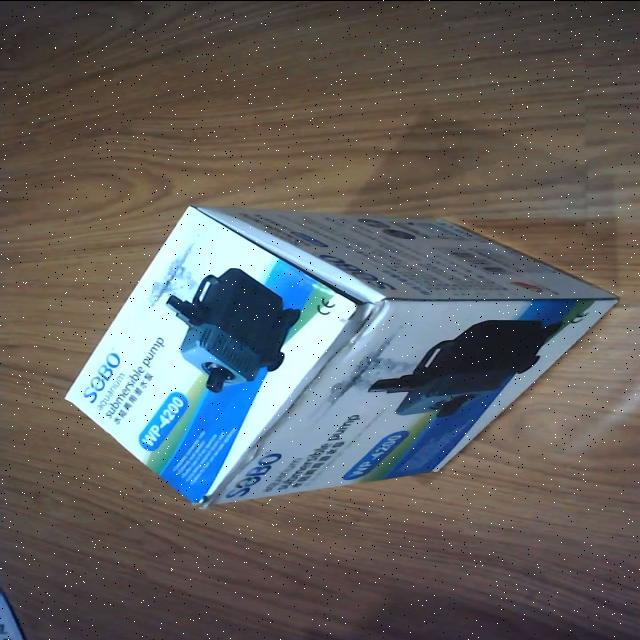SOBO_WP_4200: (55, 201, 630, 512)
